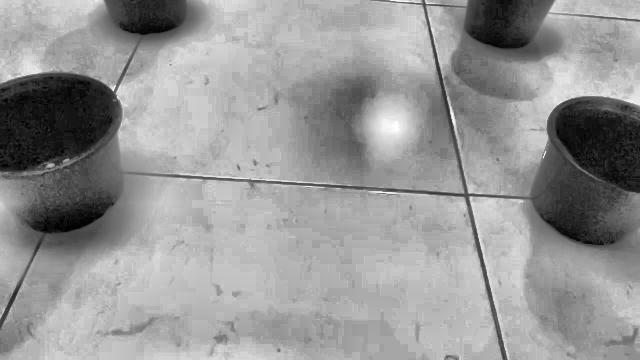pot: (0, 73, 122, 232), (530, 96, 640, 246), (0, 18, 24, 64)
